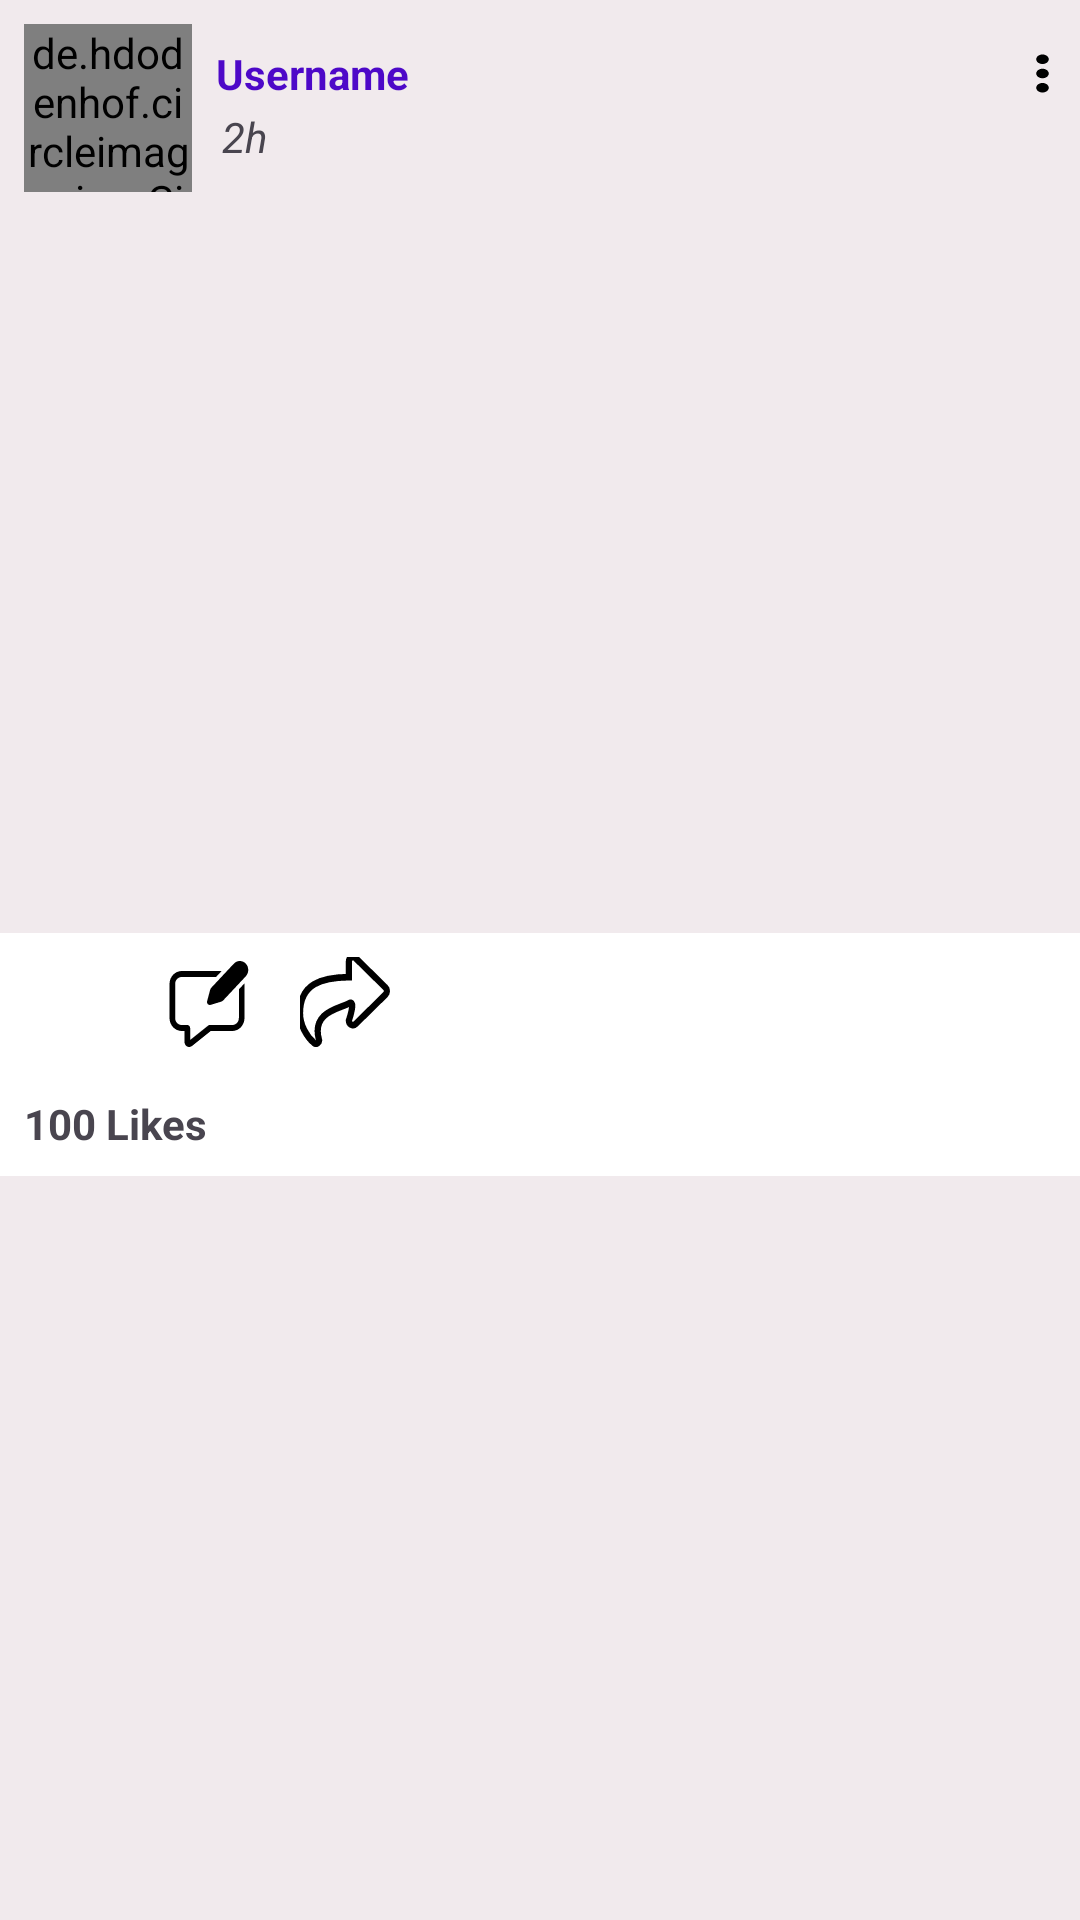

Where to tap for icons on this 1080×1920 app screen, as point (x, y):
comment: point (209, 1004)
share: point (345, 1002)
